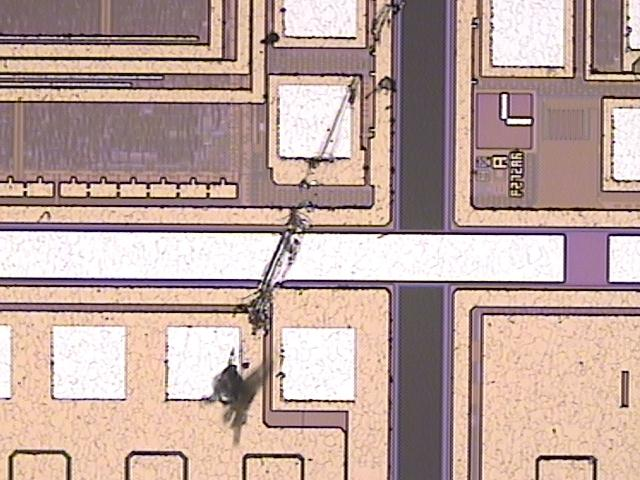SCRATCH: (195, 1, 407, 454)
